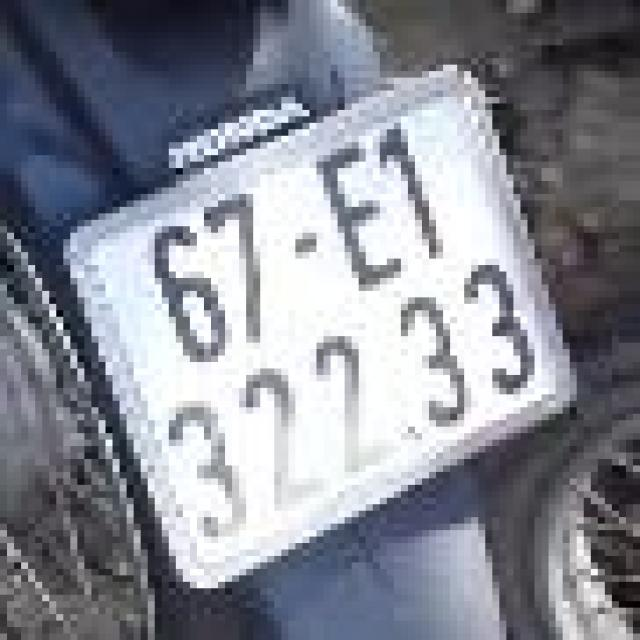1: (358, 101, 467, 280)
2: (288, 317, 414, 494), (223, 351, 344, 532)
3: (147, 391, 265, 563), (450, 251, 559, 421), (382, 281, 490, 442)
6: (130, 207, 248, 384)
7: (190, 173, 292, 363)
E: (300, 126, 422, 307)
